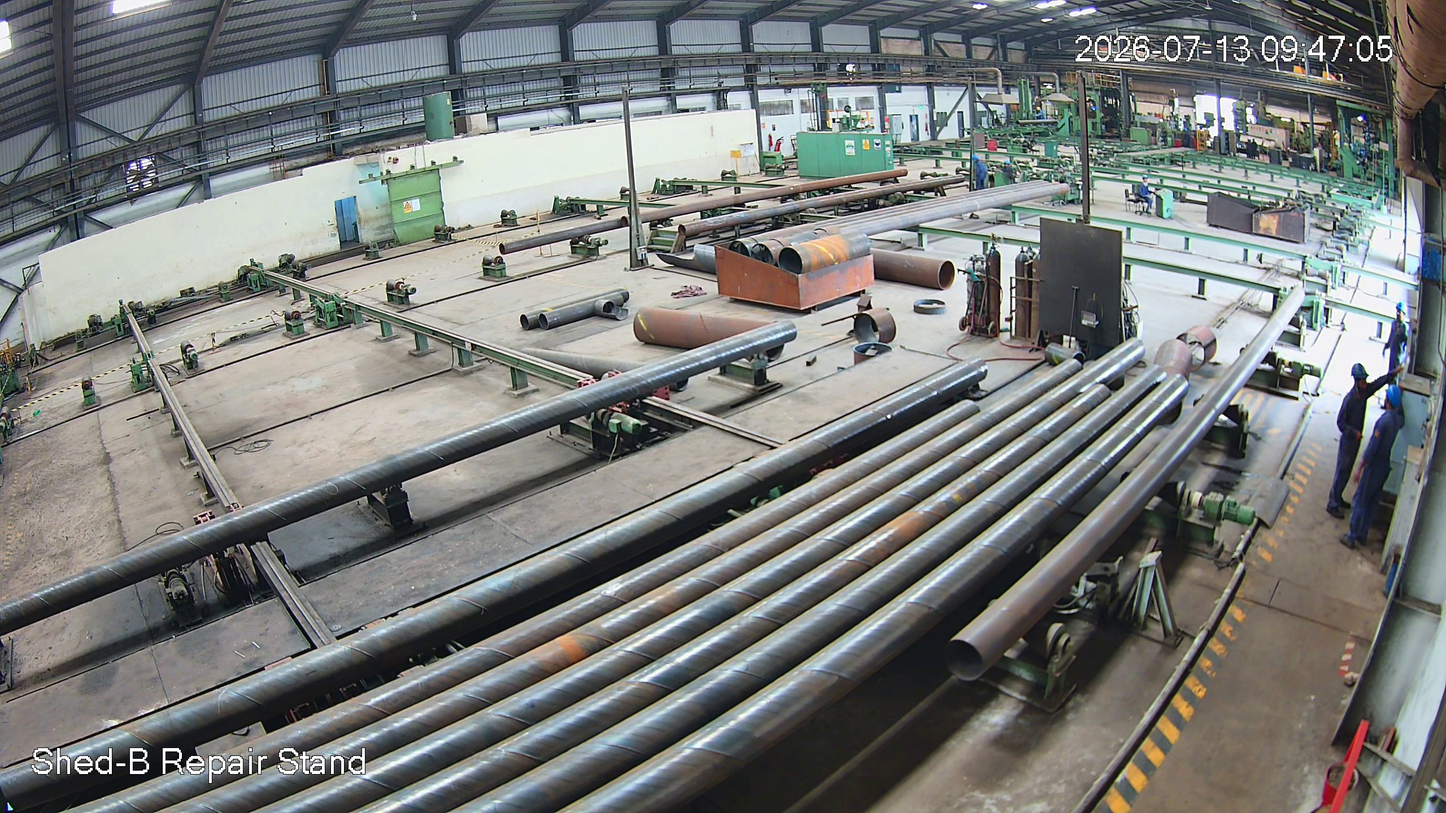Helmet: (1344, 360, 1379, 399), (1382, 380, 1409, 416)
Person: (1319, 366, 1383, 527), (1348, 385, 1408, 552)
